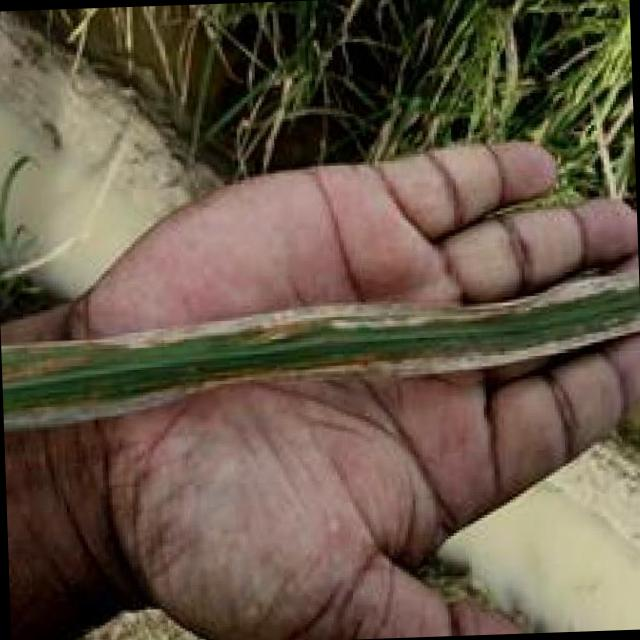Rice_Bacterial_Blight: (11, 277, 640, 408)
